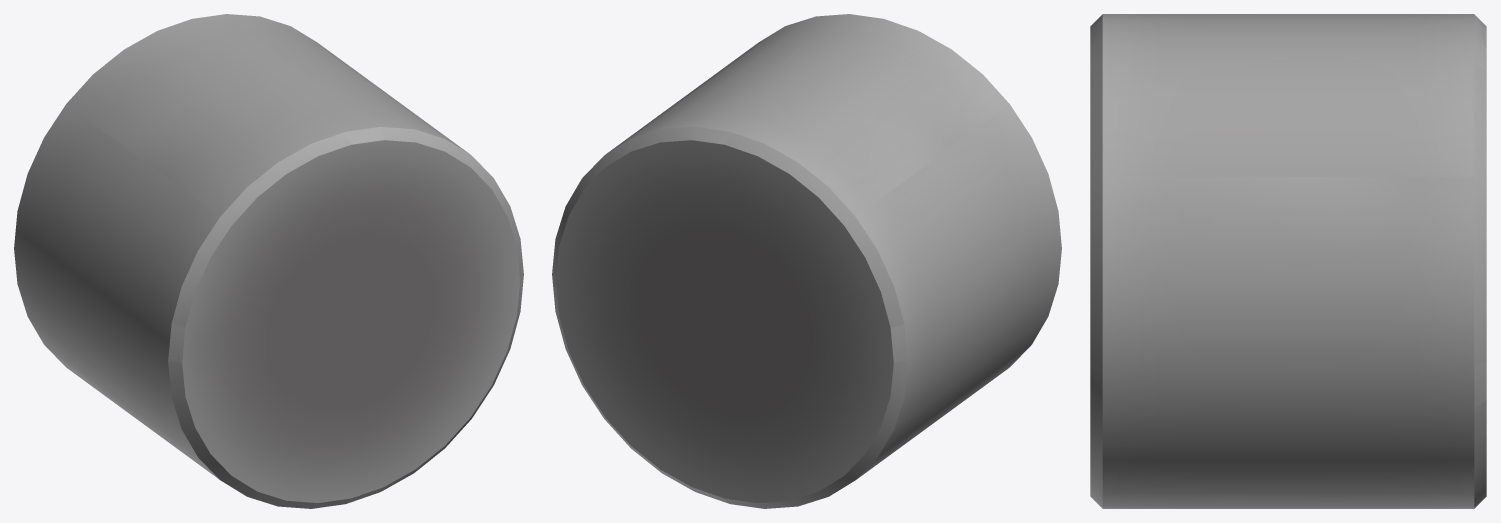
File: pin1_textured.glb
3 renders of one model, left to right at view 1: azimuth 30°, elevation 25°; view 2: azimuth 150°, elevation 25°; view 3: azimuth 270°, elevation 25°, orthographic. The views are drawn at different scales.
Parts seen in each view (by area): view 1: pin1; view 2: pin1; view 3: pin1.
Part boxes in pixels (x1=…): pin1: x1=14, y1=14, x2=523, y2=508; pin1: x1=552, y1=14, x2=1061, y2=508; pin1: x1=1090, y1=14, x2=1486, y2=508.
Size of the model in its own units: 0.1 by 0.1 by 0.08.
1 material, 1 textured.
